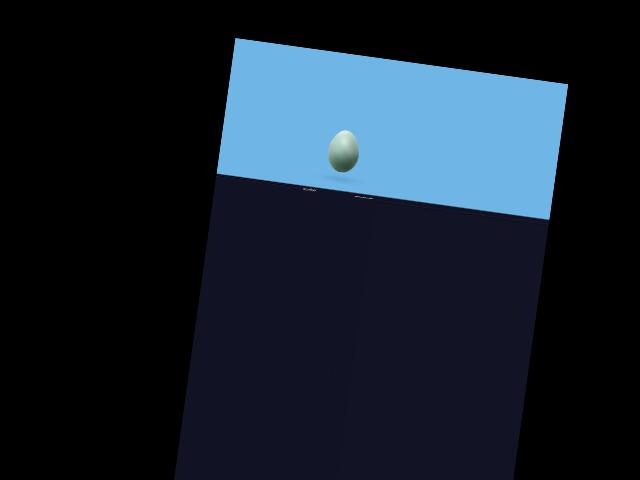egg: (326, 128, 362, 174)
